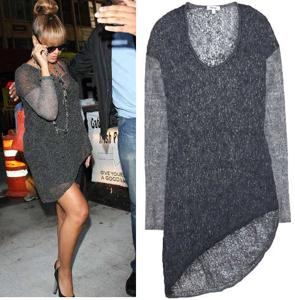C_cardigan sweater: (16, 60, 110, 191)
